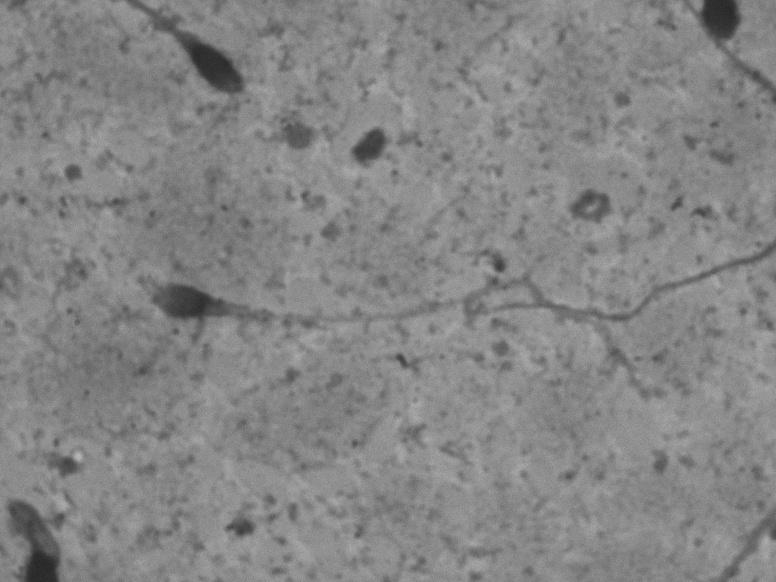Abnormal: (109, 233, 648, 408)
